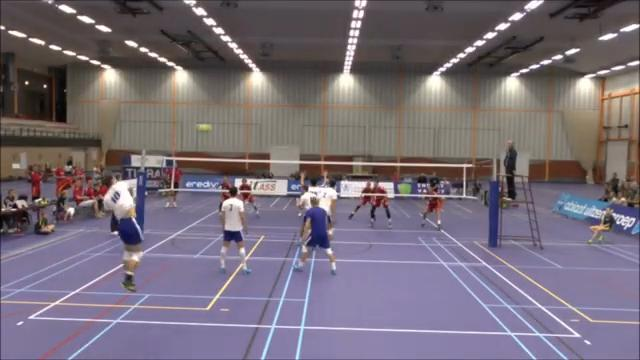battuta: (90, 167, 152, 296)
